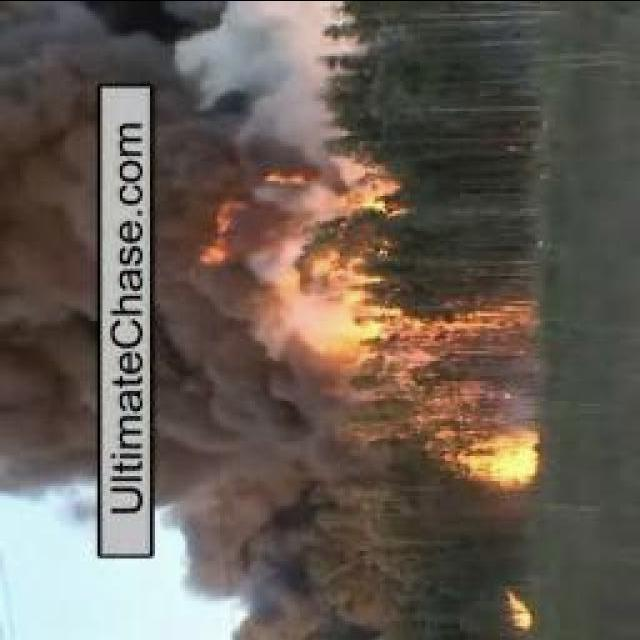Fire: (202, 154, 398, 252), (316, 288, 538, 356), (441, 422, 532, 486), (498, 582, 538, 632)
